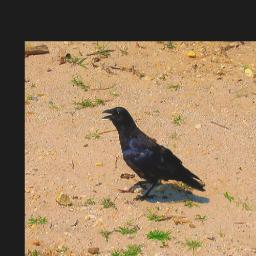Crow: (102, 106, 205, 201)
